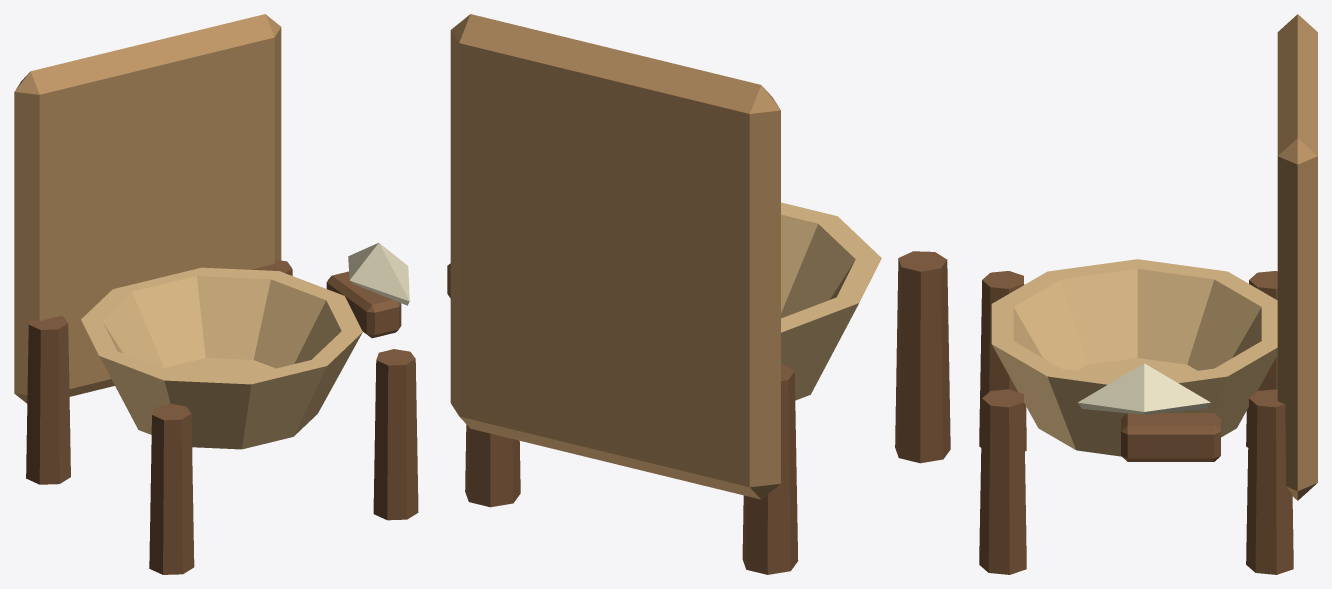
The model's file is CC_Toilet.fbx.
The picture shows the model from 3 angles, left to right: view 1: azimuth 30°, elevation 25°; view 2: azimuth 150°, elevation 25°; view 3: azimuth 270°, elevation 25°; orthographic projection. The views are drawn at different scales.
Visible parts, largest first — view 1: Back panel, Hollow seat, Leg.032, Leg.034, Leg.033, Leaf paper, Paper holder; view 2: Back panel, Hollow seat, Leg.032, Leg.033, Leg.035; view 3: Hollow seat, Back panel, Leg.034, Leg.035, Paper holder, Leaf paper, Leg.032, Leg.033.
Boxes of the visible parts, x1,y1,x2,y2 form: Back panel: (14,14,281,403); Hollow seat: (81,267,362,449); Leg.032: (149,403,194,574); Leg.034: (373,349,418,520); Leg.033: (26,316,70,484); Leaf paper: (348,242,409,305); Paper holder: (326,271,401,338); Back panel: (450,14,780,499); Hollow seat: (781,202,881,400); Leg.032: (895,251,950,463); Leg.033: (742,363,798,574); Leg.035: (465,424,520,507); Hollow seat: (991,259,1277,456); Back panel: (1277,14,1317,500); Leg.034: (979,389,1026,574); Leg.035: (1246,389,1293,574); Paper holder: (1121,413,1220,461); Leaf paper: (1077,363,1210,414); Leg.032: (979,271,1026,451); Leg.033: (1246,271,1277,447).
Bounding box in the file's own units: 1.21 × 1.42 × 1.02.
